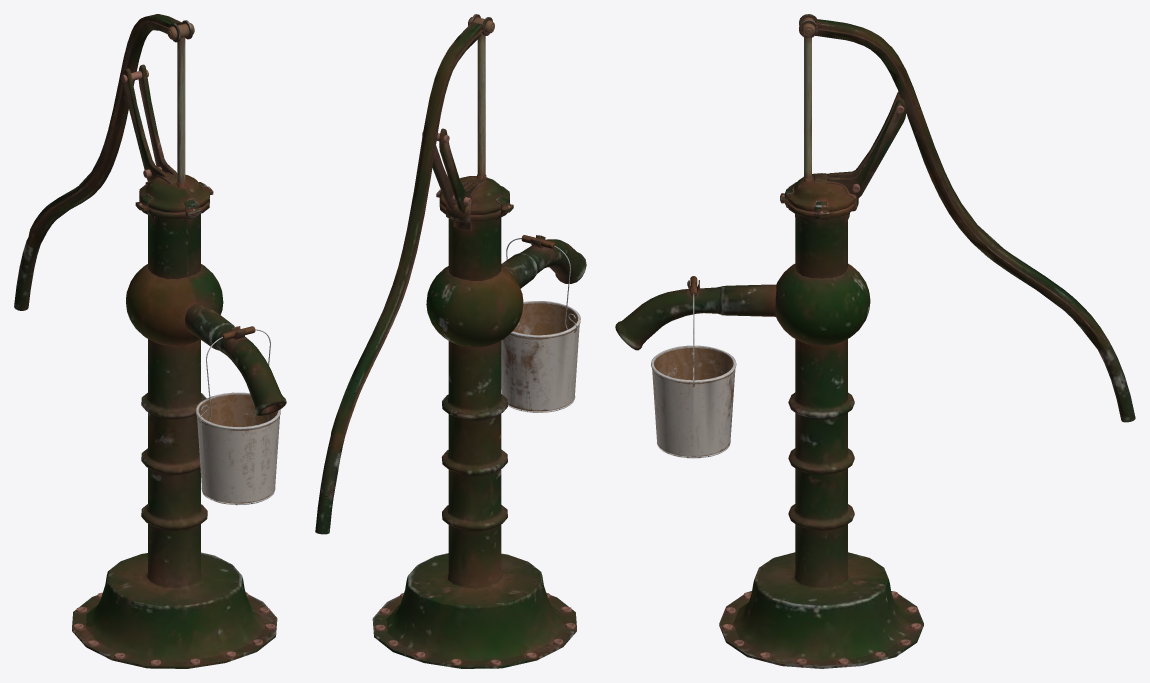
File: pump.glb
3 renders of one model, left to right at view 1: azimuth 30°, elevation 25°; view 2: azimuth 150°, elevation 25°; view 3: azimuth 270°, elevation 25°, orthographic.
Visible parts, largest first — view 1: Handle, Bucket, Lever, Bolts, Clamps; view 2: Handle, Bucket, Lever, Bolts; view 3: Handle, Bucket, Lever.
Boxes of the visible parts, bbox=[...] form: Handle: bbox=[14, 14, 286, 668]; Bucket: bbox=[196, 326, 280, 505]; Lever: bbox=[167, 23, 194, 183]; Bolts: bbox=[73, 592, 275, 665]; Clamps: bbox=[135, 182, 213, 219]; Handle: bbox=[315, 14, 586, 668]; Bucket: bbox=[501, 235, 580, 412]; Lever: bbox=[468, 17, 494, 176]; Bolts: bbox=[375, 592, 575, 665]; Handle: bbox=[615, 14, 1135, 668]; Bucket: bbox=[651, 276, 736, 458]; Lever: bbox=[801, 17, 815, 178].
Bounding box in the file's own units: 0.6178 × 2.03 × 1.57.
8 materials, 8 textured.
